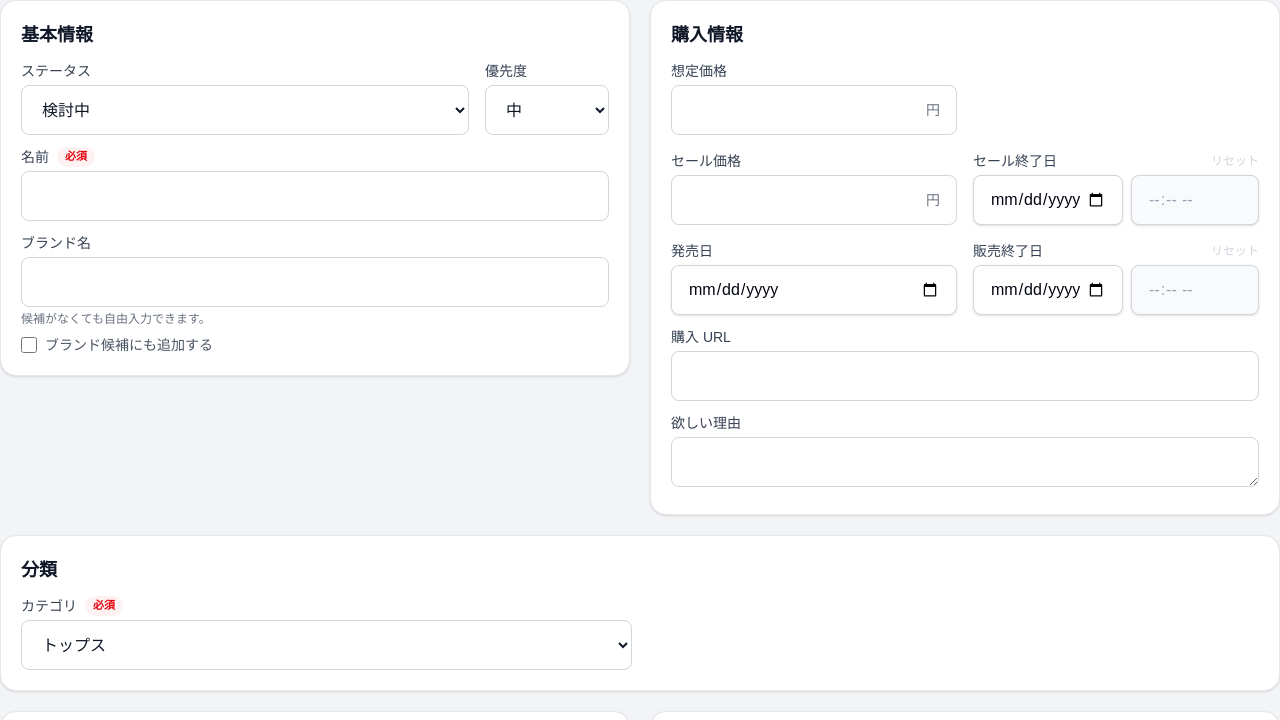
Test: 購入検討フォーム › tops では詳細属性の spec UI を表示し、shape UI は表示しない
Select "トップス" in the dropdown with id "category_group_id" at {"x": 326, "y": 645}, box [21,620,632,670]
Select "トップス" in the dropdown with id "category_group_id" at {"x": 326, "y": 645}, box [21,620,632,670]
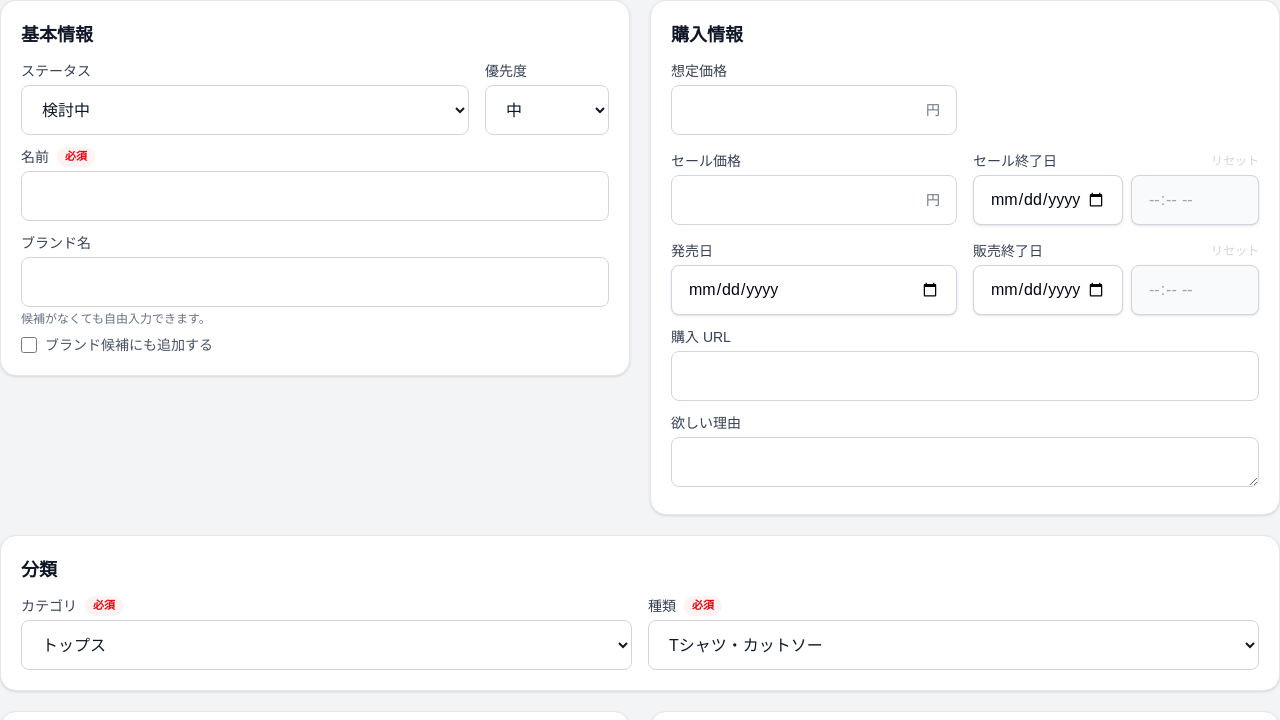
Select "Tシャツ・カットソー" in the dropdown with id "category_id" at {"x": 954, "y": 645}, box [648,620,1259,670]
Select "Tシャツ・カットソー" in the dropdown with id "category_id" at {"x": 954, "y": 645}, box [648,620,1259,670]
(page scrolled)
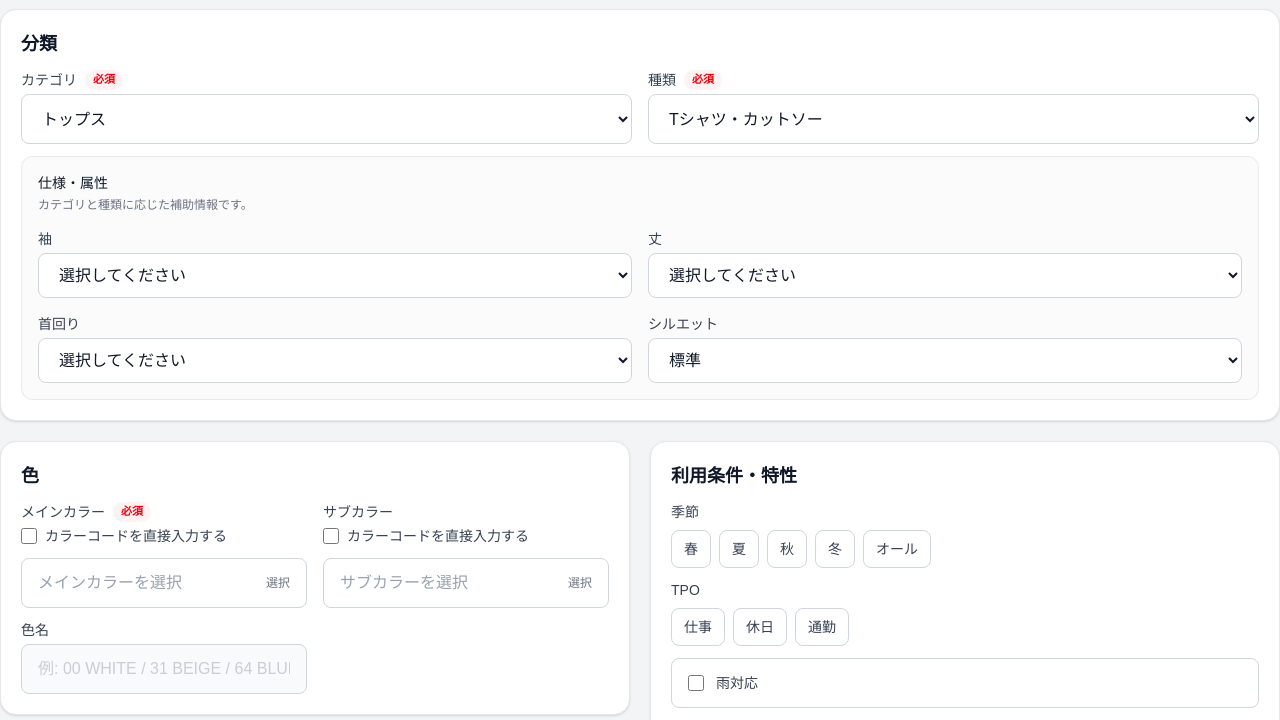
expect the dropdown with id "spec-tops-sleeve" is shown: met, box [38,253,632,298]
expect the dropdown with id "spec-tops-length" is shown: met, box [648,253,1242,298]
expect the dropdown with id "spec-tops-neck" is shown: met, box [38,338,632,383]
